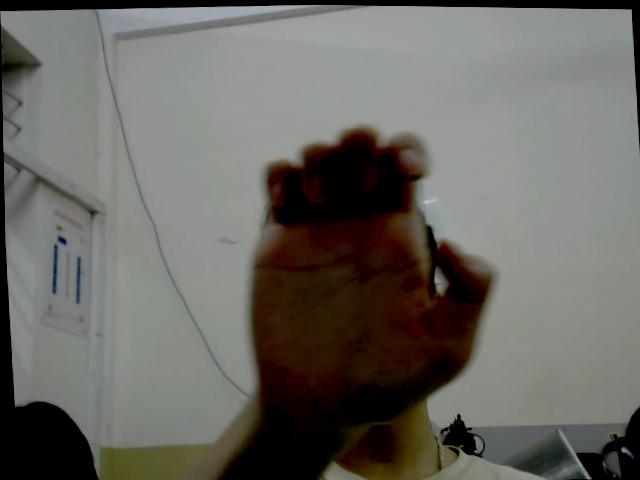E: (235, 115, 503, 421)
